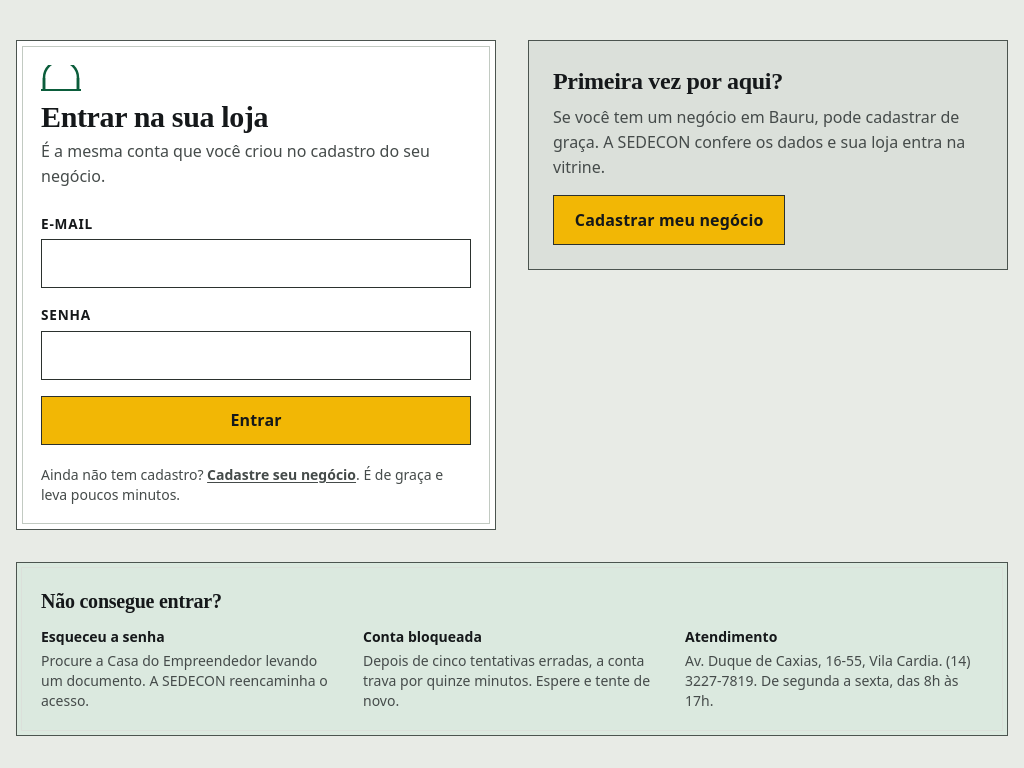
Test: tela de entrar › mostra a mensagem do servidor quando a senha está errada
In the field labelled "E-mail": (256, 264) 41,239 -> 471,288, type "lourdes@exemplo.com"
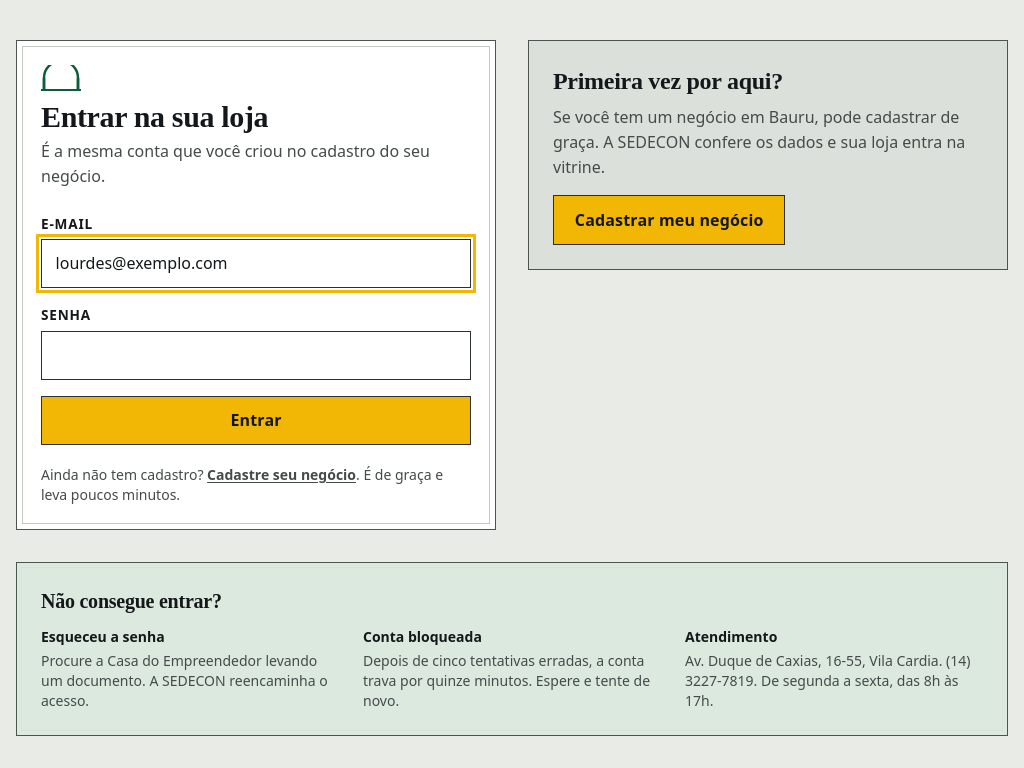
In the password field labelled "Senha": (256, 356) 41,331 -> 471,380, type "errada12345"
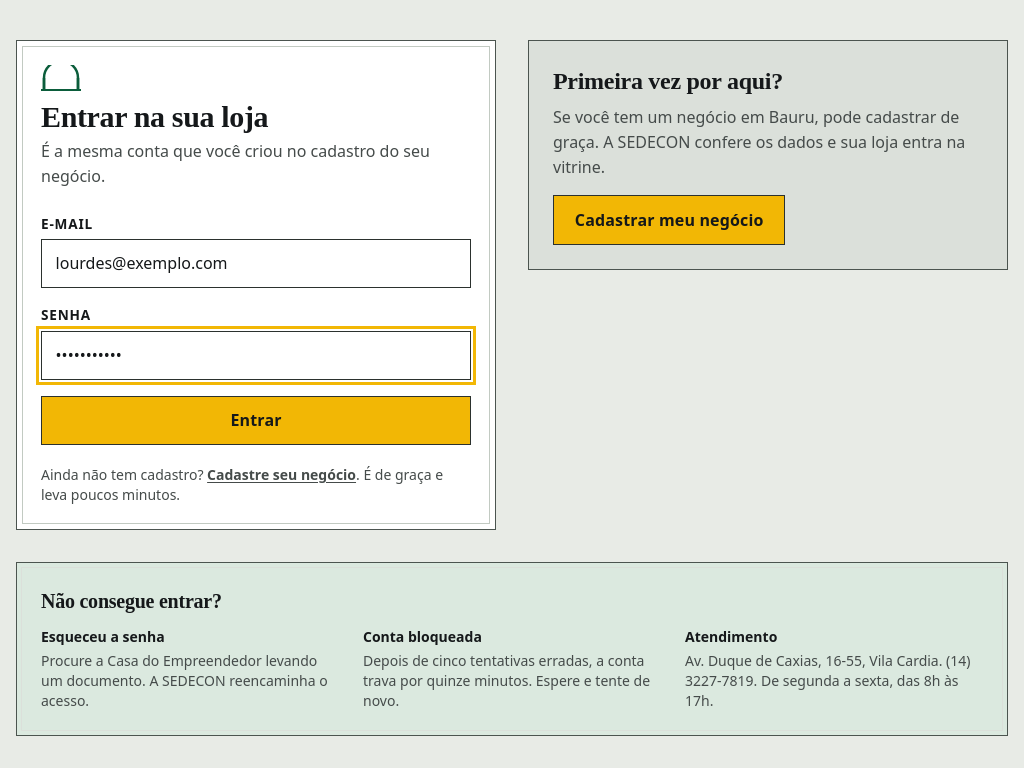
Click the button "Entrar": (256, 421) 41,396 -> 471,446
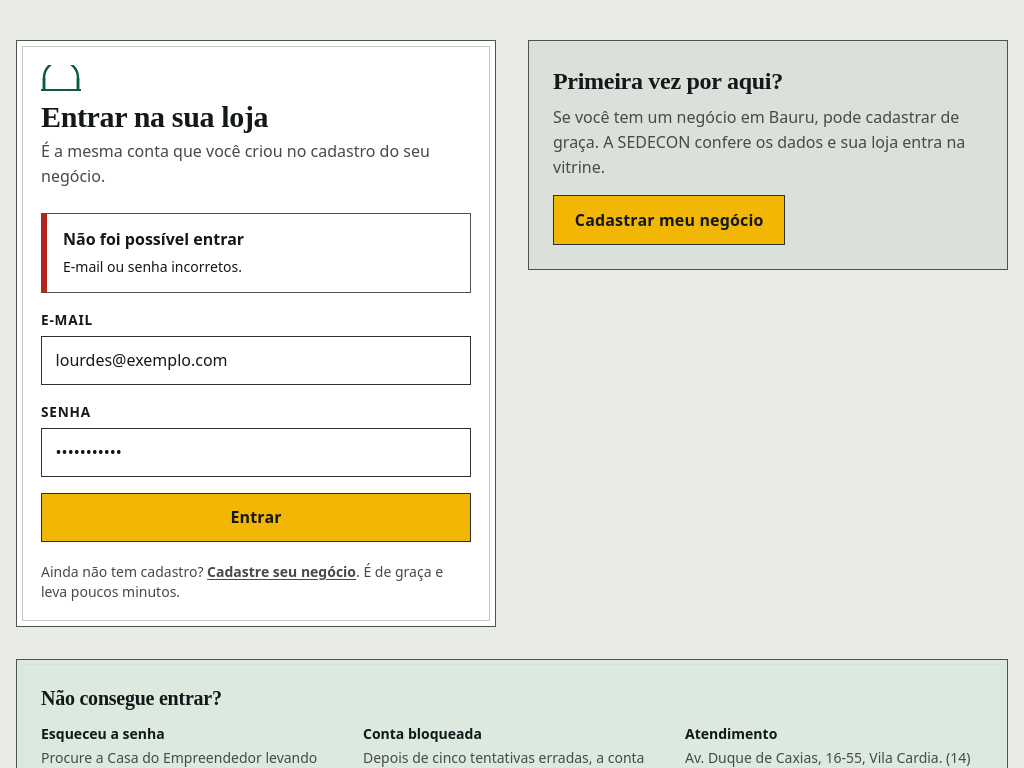
Check: the message shows "E-mail ou senha incorretos.", box 63,257 -> 242,276
